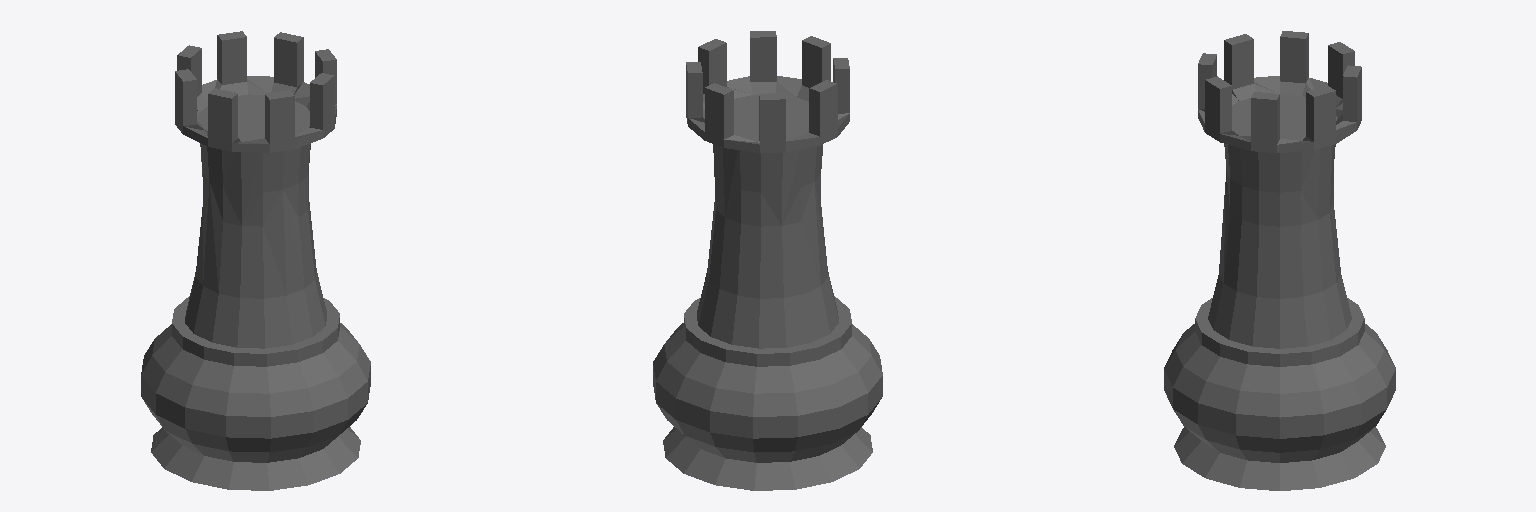
Rendered from rook_white.obj.
3 views of the same model, side by side, from view 1: azimuth 30°, elevation 25°; view 2: azimuth 150°, elevation 25°; view 3: azimuth 270°, elevation 25° (orthographic).
Visible parts, largest first — view 1: Rook.003; view 2: Rook.003; view 3: Rook.003.
Part boxes in pixels (left/top/right/bottom): Rook.003: left=141, top=31, right=370, bottom=490; Rook.003: left=653, top=31, right=882, bottom=490; Rook.003: left=1164, top=31, right=1395, bottom=490.
Bounding box in the file's own units: 1.31 × 2.38 × 1.31.